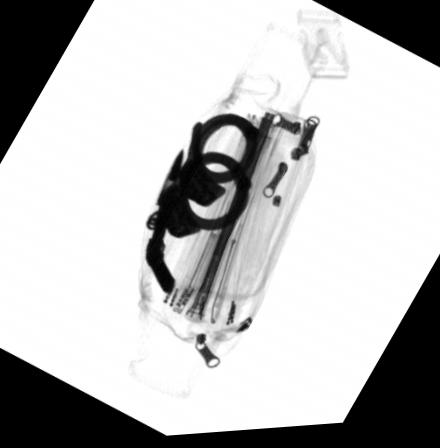Bullet: (154, 151, 184, 211)
Gun: (143, 202, 176, 298)
HandCuffs: (144, 116, 264, 244)
